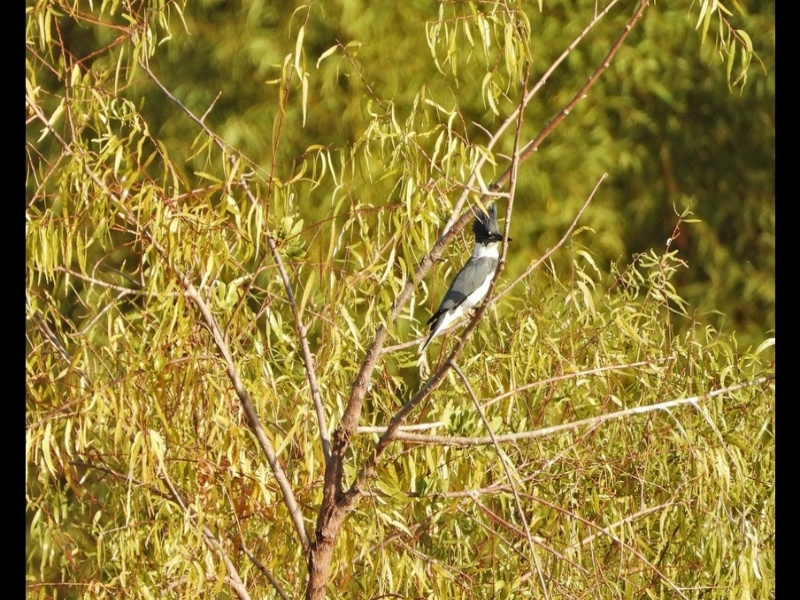kingfisher: (423, 200, 514, 346)
